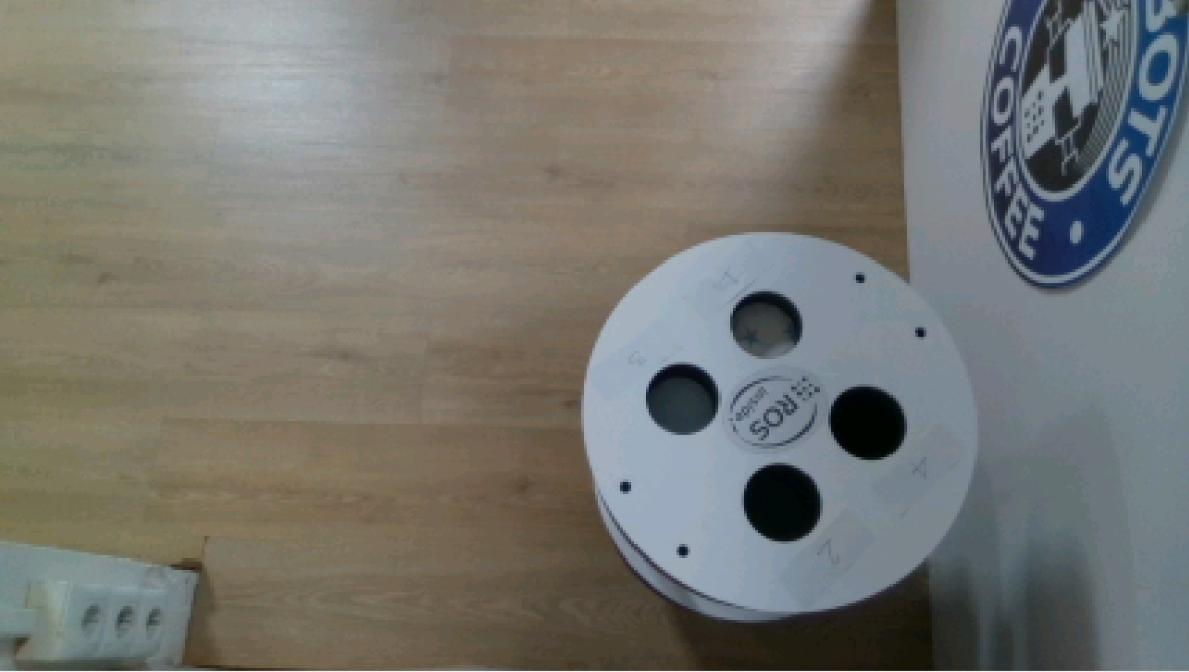hole: (742, 462, 826, 544), (829, 382, 910, 466), (643, 359, 722, 440), (724, 286, 809, 360)
